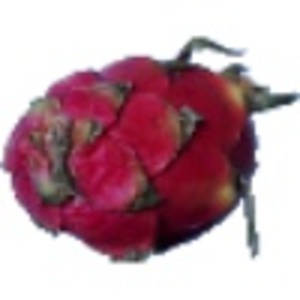pitaia: (1, 37, 300, 268)
